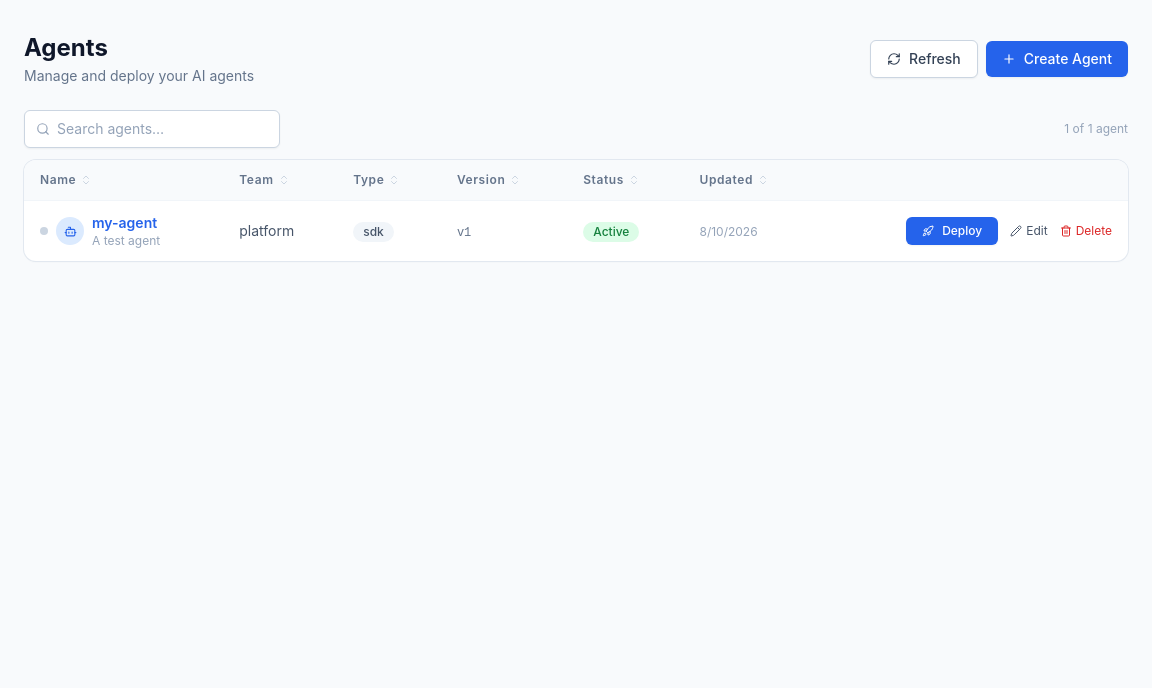
Test: AgentListPage › Edit Agent modal hides knowledge_search from Tools and shows the KB picker
The width and height of the screenshot is (1152, 688).
Expected: the link "my-agent" is shown, [92,214,157,231]
Click the button "Edit". click: x=1029, y=231
box: [1010,223,1048,239]
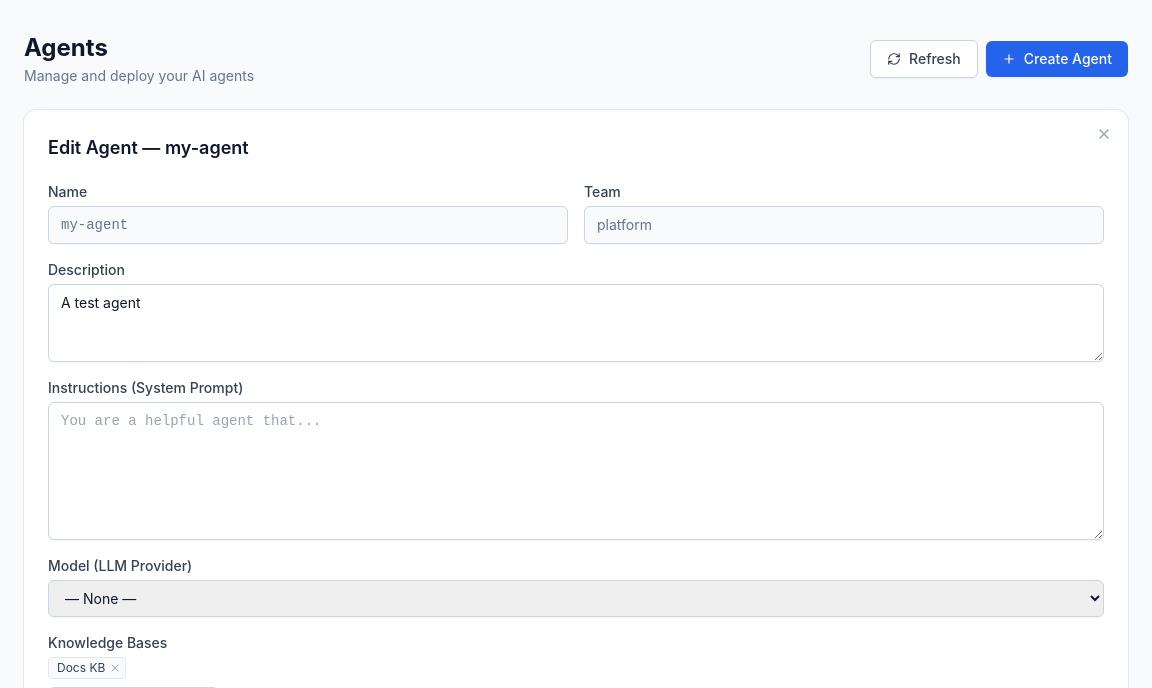
Expected: the text "Docs KB" is shown, [48,657,126,679]
